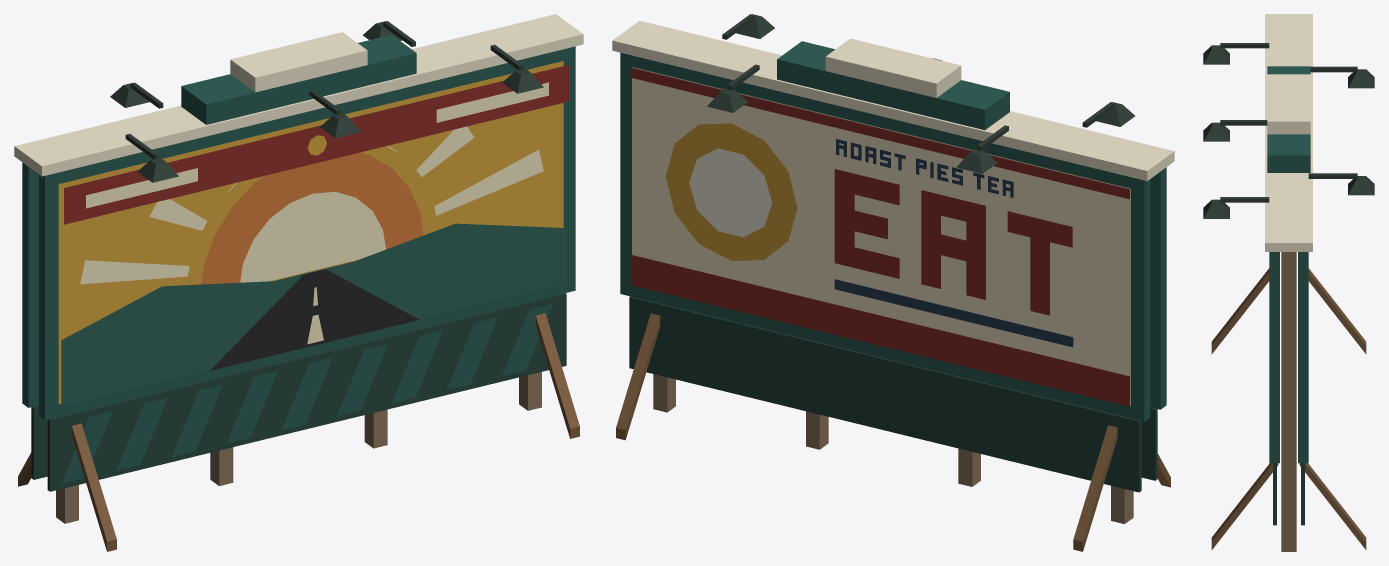
File: billboard_a.glb
3 renders of one model, left to right at view 1: azimuth 30°, elevation 25°; view 2: azimuth 150°, elevation 25°; view 3: azimuth 270°, elevation 25°, orthographic. The views are drawn at different scales.
Parts seen in each view (by area): view 1: billboard_a; view 2: billboard_a; view 3: billboard_a.
Part boxes in pixels (x1,y1,x2,y2): billboard_a: (14,14,583,551); billboard_a: (612,14,1174,551); billboard_a: (1203,14,1374,551).
Bounding box in the file's own units: 7.72 × 5.55 × 2.44.
